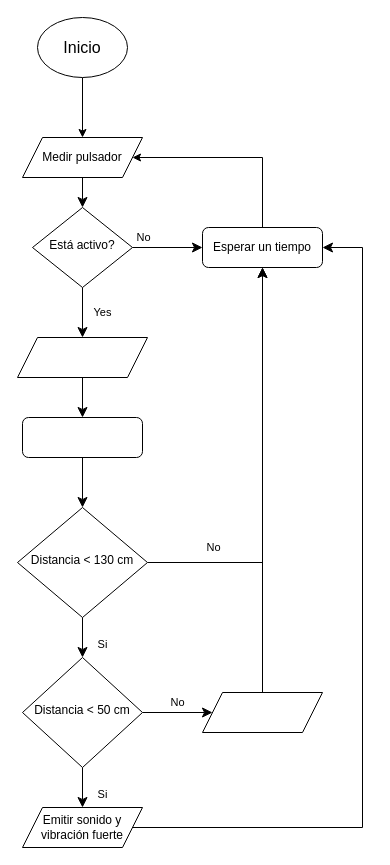
This 390x865 diagram has some shape labels left out. The shapes that lost their labels are listed below. From the top down, each one's box as (x1, y1, x2, y2) in pixels, then its label:
(16, 336, 148, 378): Medir ultrasonido
(22, 416, 142, 458): Calcular distancia
(202, 692, 322, 732): Emitir sonido y vibración débil
